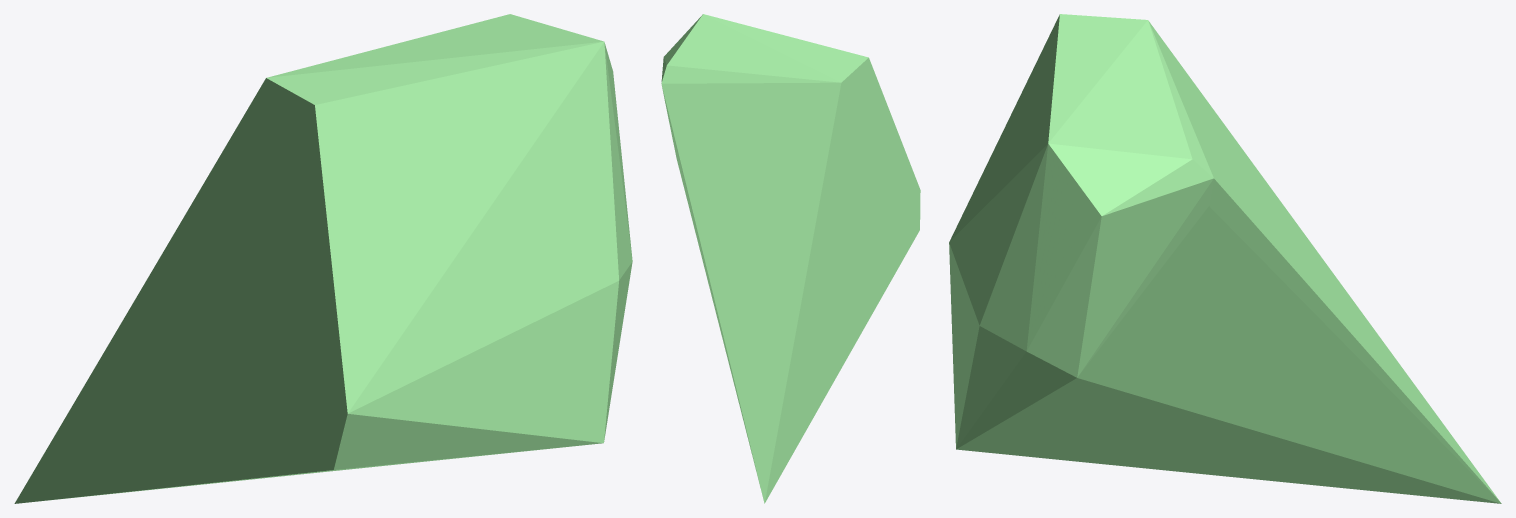
Rendered from UMIRobot_UMIRobot_link_5_convex_coll_7.dae.
3 renders of one model, left to right at view 1: azimuth 30°, elevation 25°; view 2: azimuth 150°, elevation 25°; view 3: azimuth 270°, elevation 25°, orthographic. The views are drawn at different scales.
Parts seen in each view (by area): view 1: node; view 2: node; view 3: node.
Part boxes in pixels (box(x1,y1,x2,y2)): node: box(14, 14, 632, 503); node: box(661, 14, 920, 503); node: box(949, 14, 1501, 503).
Size of the model in its own units: 0.0114 by 0.0159 by 0.0153.
